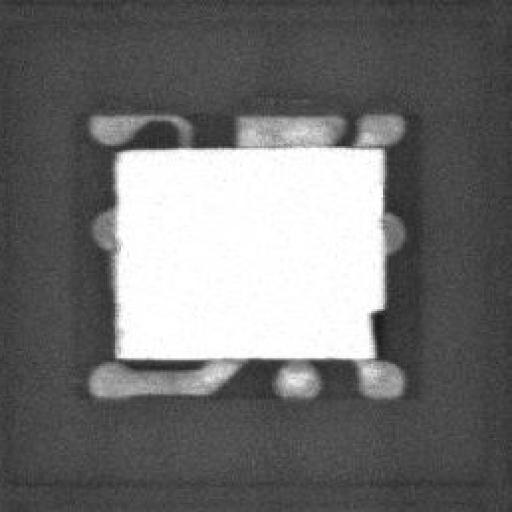DIE_BROKEN: (363, 304, 385, 358)
